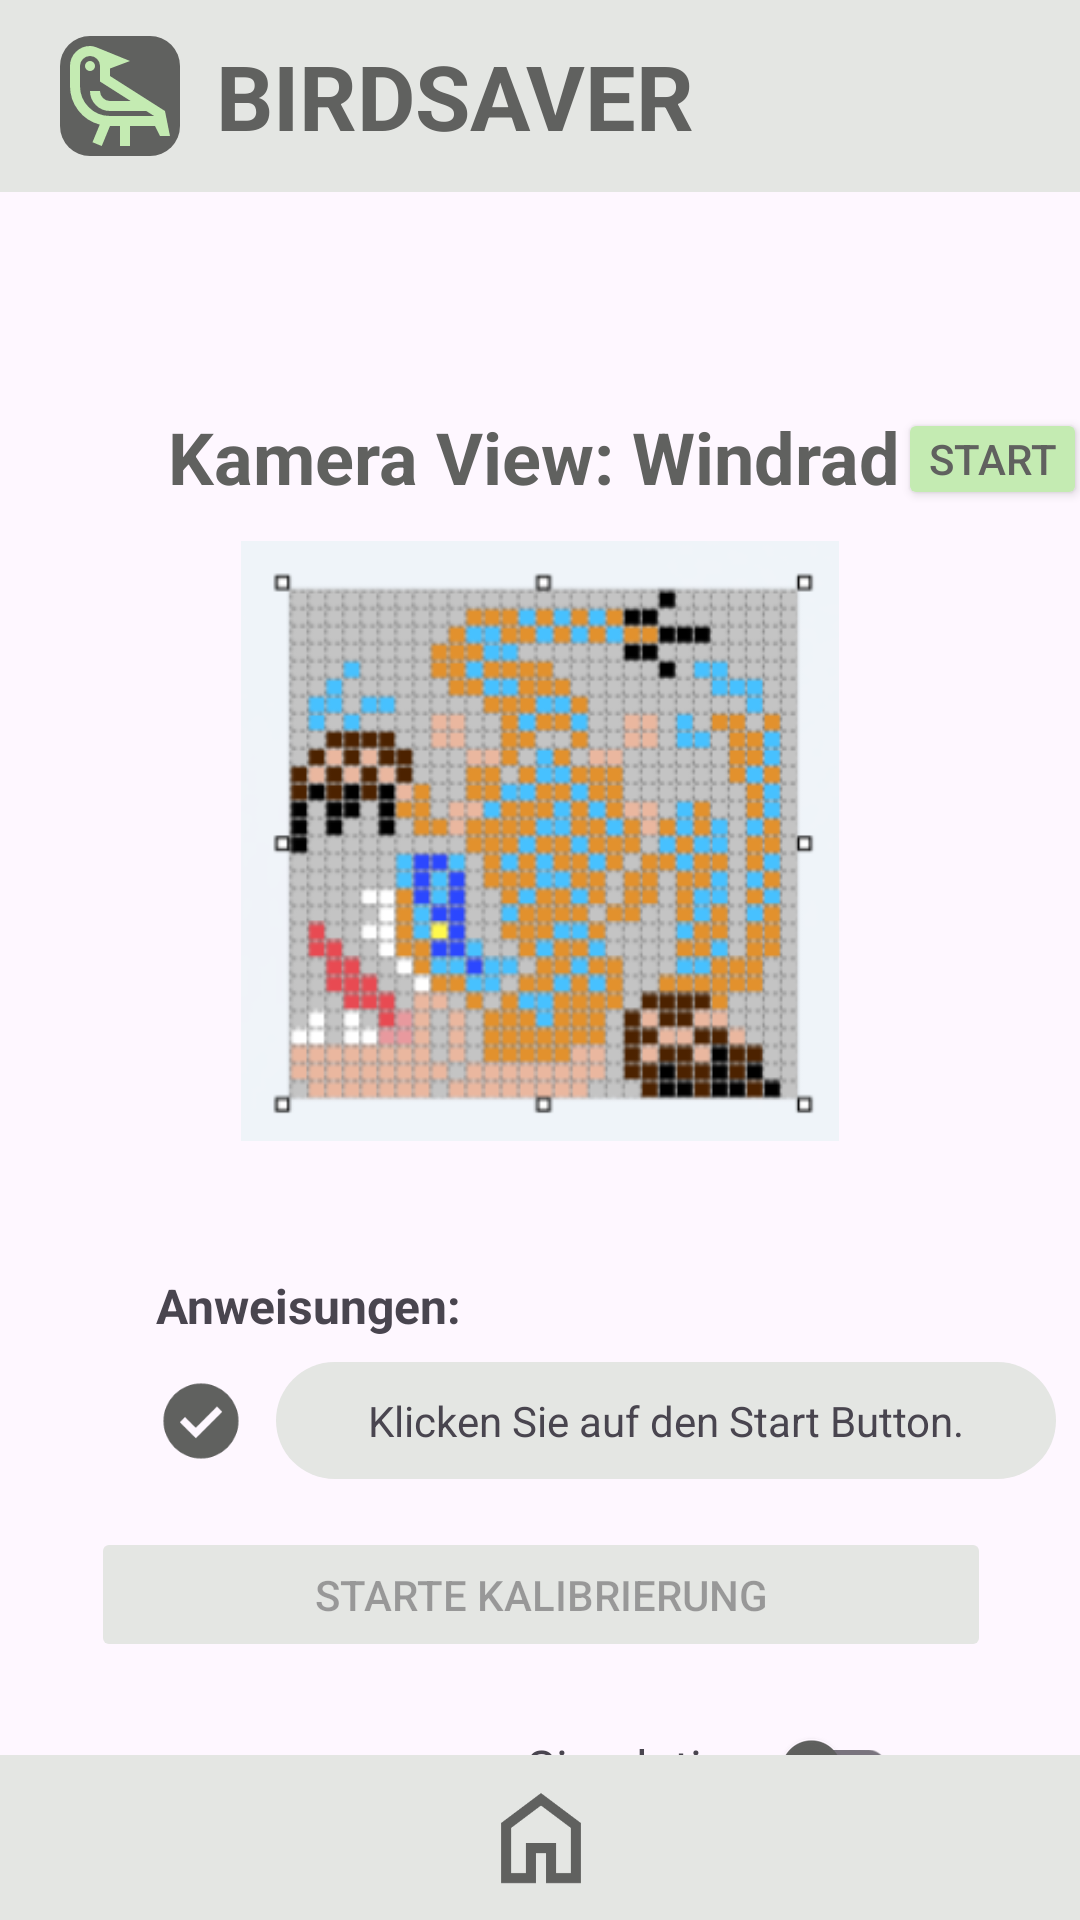

Where to tap for icons on this 1080px x 1920px app screen, as [x,y]:
check: [201,1421]
Home: [541,1838]
